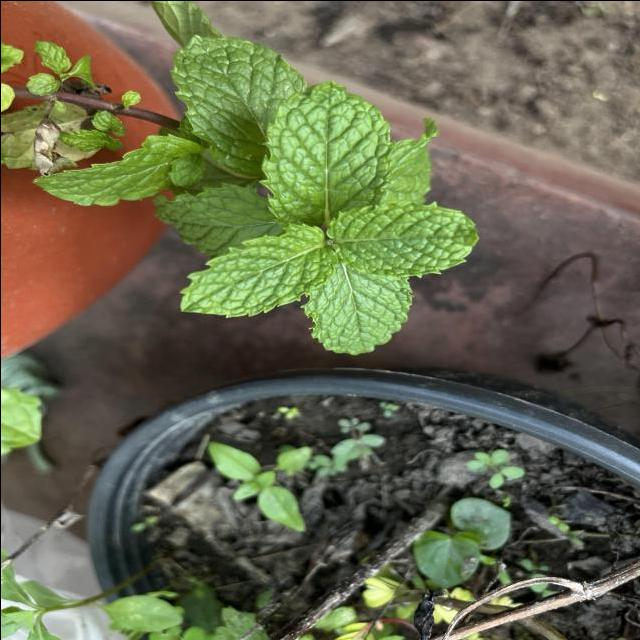Mentha spicata: (256, 82, 396, 225), (176, 220, 339, 318), (324, 198, 479, 280), (299, 272, 415, 355)
